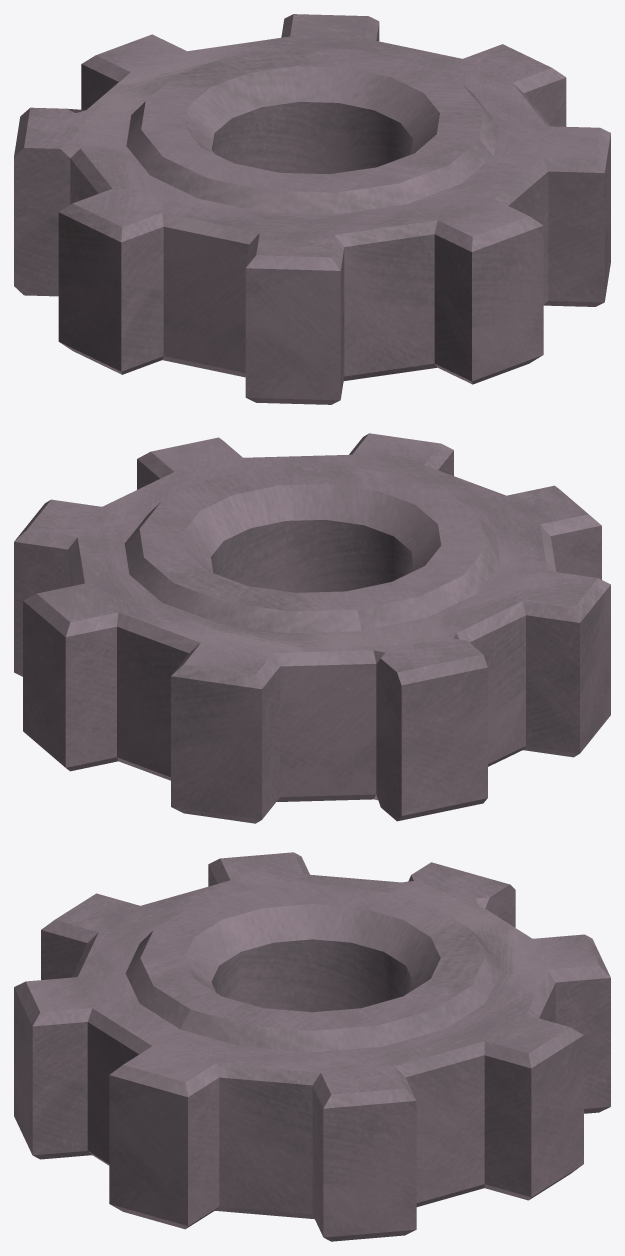
The model's file is Cogwheel Debris.fbx.
3 renders of one model, top to bottom at view 1: azimuth 30°, elevation 25°; view 2: azimuth 150°, elevation 25°; view 3: azimuth 270°, elevation 25°, orthographic.
Parts seen in each view (by area): view 1: Cogwheel; view 2: Cogwheel; view 3: Cogwheel.
Part boxes in pixels (x1,y1,x2,y2): Cogwheel: [14, 14, 610, 404]; Cogwheel: [14, 433, 610, 823]; Cogwheel: [14, 852, 610, 1241].
Size of the model in its own units: 73.61 by 24.18 by 73.61.
